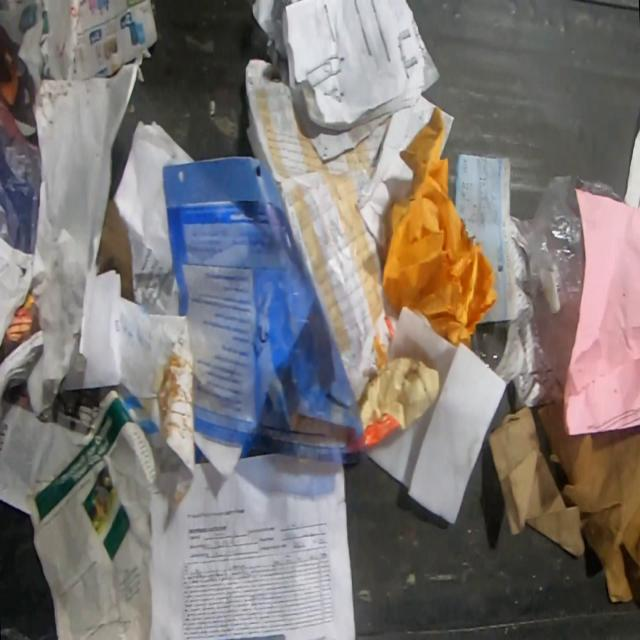cardboard: (536, 399, 640, 604), (486, 404, 587, 561), (39, 0, 158, 81), (356, 354, 442, 448), (96, 195, 137, 304), (4, 290, 40, 352)
rigid_plastic: (469, 318, 518, 381)
soft_plastic: (161, 154, 369, 467), (508, 173, 625, 390), (0, 129, 42, 256)
